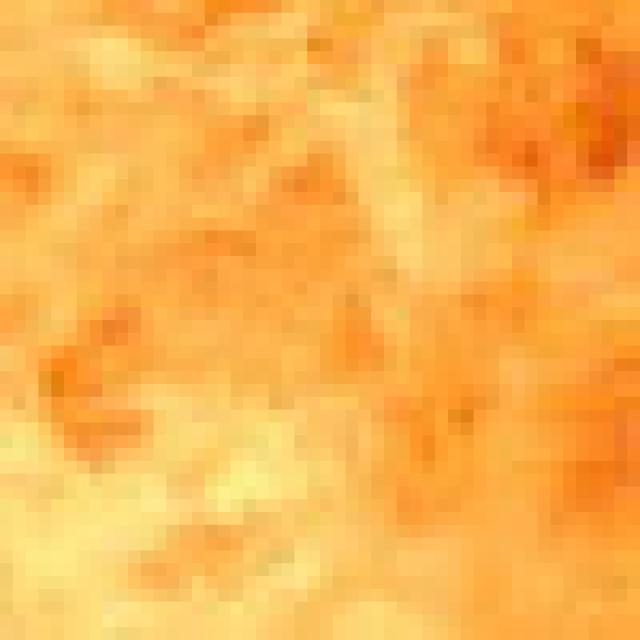fire: (3, 10, 640, 620)
